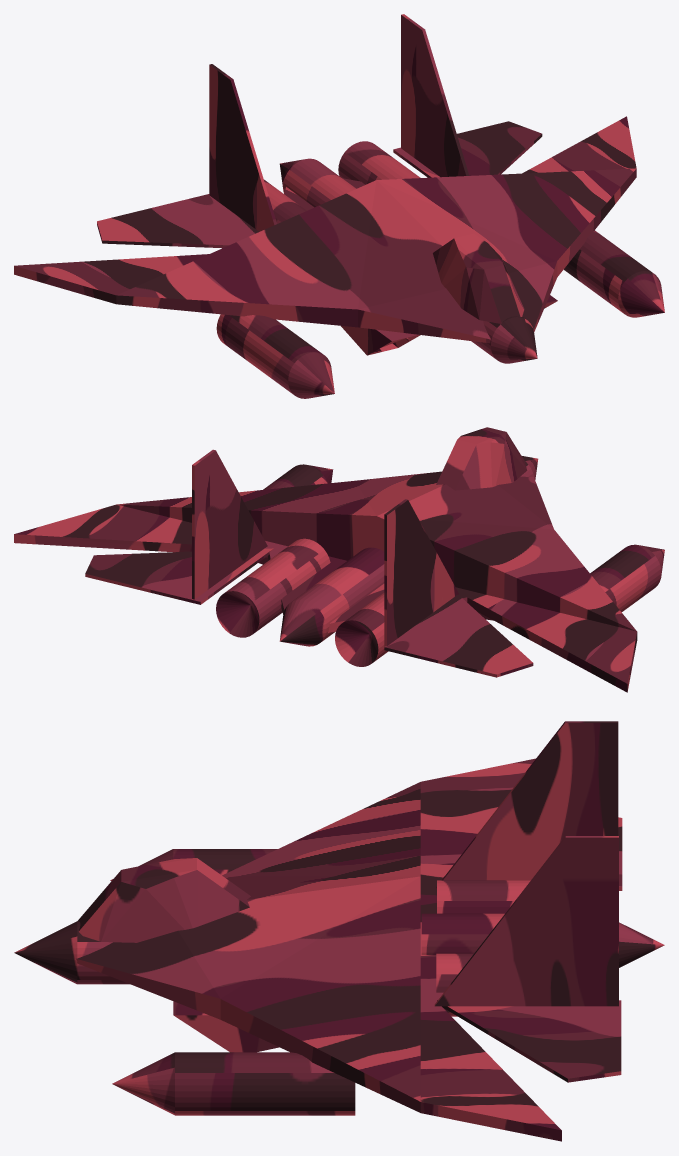
Rendered from enemy.obj.
3 views of the same model, one above another, from view 1: azimuth 30°, elevation 25°; view 2: azimuth 150°, elevation 25°; view 3: azimuth 270°, elevation 25° (orthographic). The views are drawn at different scales.
Parts seen in each view (by area): view 1: fighter; view 2: fighter; view 3: fighter.
Part boxes in pixels (box(x1,y1,x2,y2)): fighter: box(14, 14, 664, 398); fighter: box(14, 427, 664, 692); fighter: box(14, 721, 664, 1141).
Size of the model in its own units: 1.28 by 0.3756 by 0.9306.
